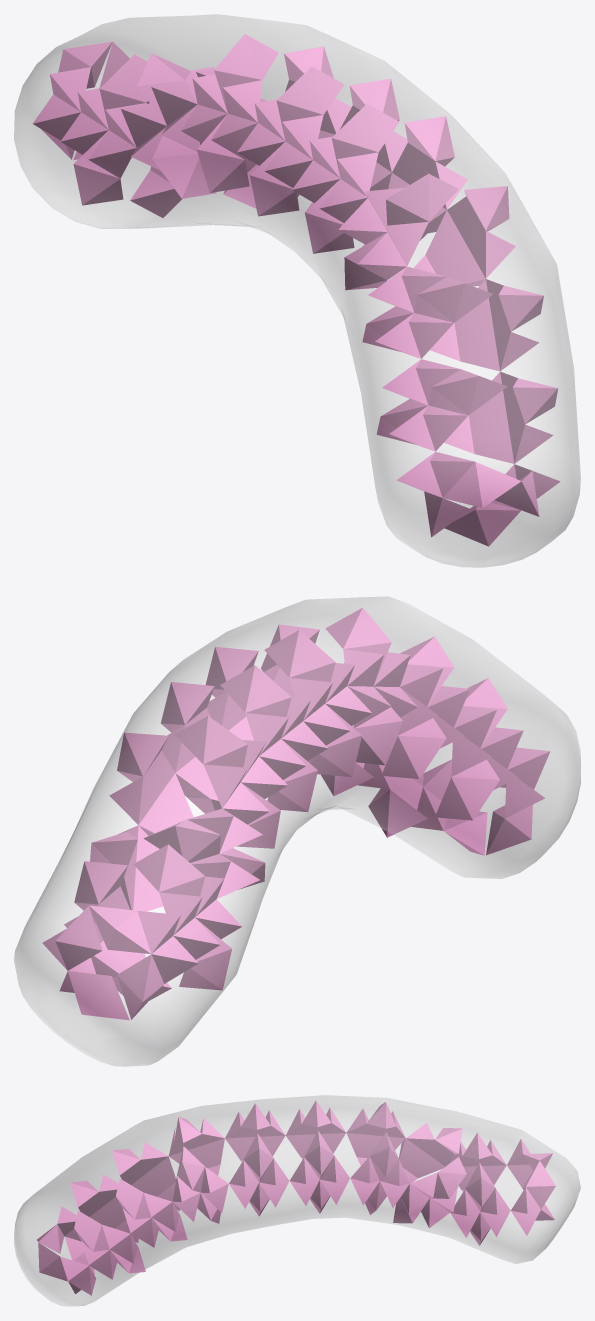
Rendered from MitochondriaIsolated.fbx.
3 views of the same model, one above another, from view 1: azimuth 30°, elevation 25°; view 2: azimuth 150°, elevation 25°; view 3: azimuth 270°, elevation 25° (orthographic). The views are drawn at different scales.
Parts seen in each view (by area): view 1: MitroMembraneIsolated, MitrochondriaIsolated; view 2: MitroMembraneIsolated, MitrochondriaIsolated; view 3: MitroMembraneIsolated, MitrochondriaIsolated.
Boxes of the visible parts, <box> form: MitroMembraneIsolated: <box>14,14,580,567</box>; MitrochondriaIsolated: <box>32,34,560,546</box>; MitroMembraneIsolated: <box>14,596,580,1066</box>; MitrochondriaIsolated: <box>42,607,550,1020</box>; MitroMembraneIsolated: <box>14,1095,580,1306</box>; MitrochondriaIsolated: <box>37,1100,555,1295</box>.
Size of the model in its own units: 1394 by 1998 by 4780.
